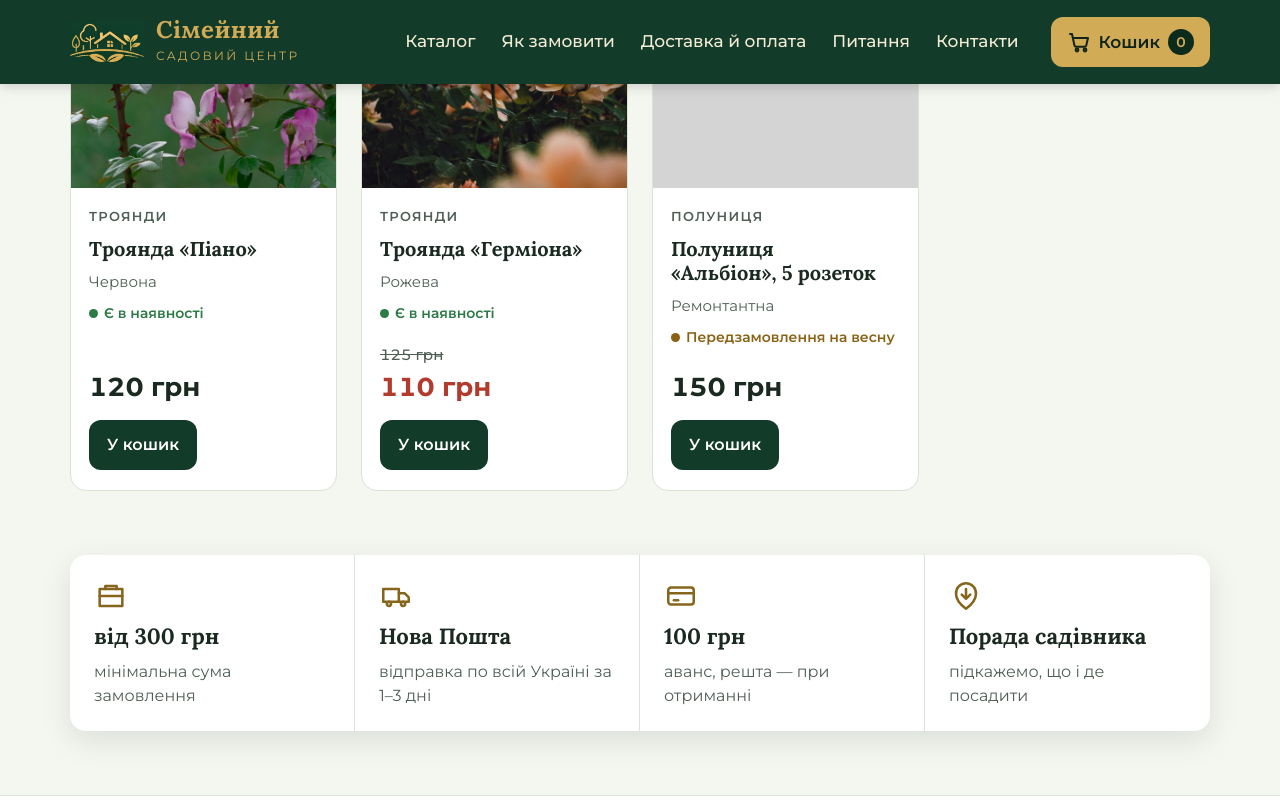
кошик і замовлення › не дає оформити замовлення менше мінімальної суми
The image size is (1280, 800).
(page scrolled)
Expected: the link "Троянда «Піано»" is shown, [89,236,257,260]
Click the button "У кошик" below "120 грн": click(143, 445) [89,420,197,470]
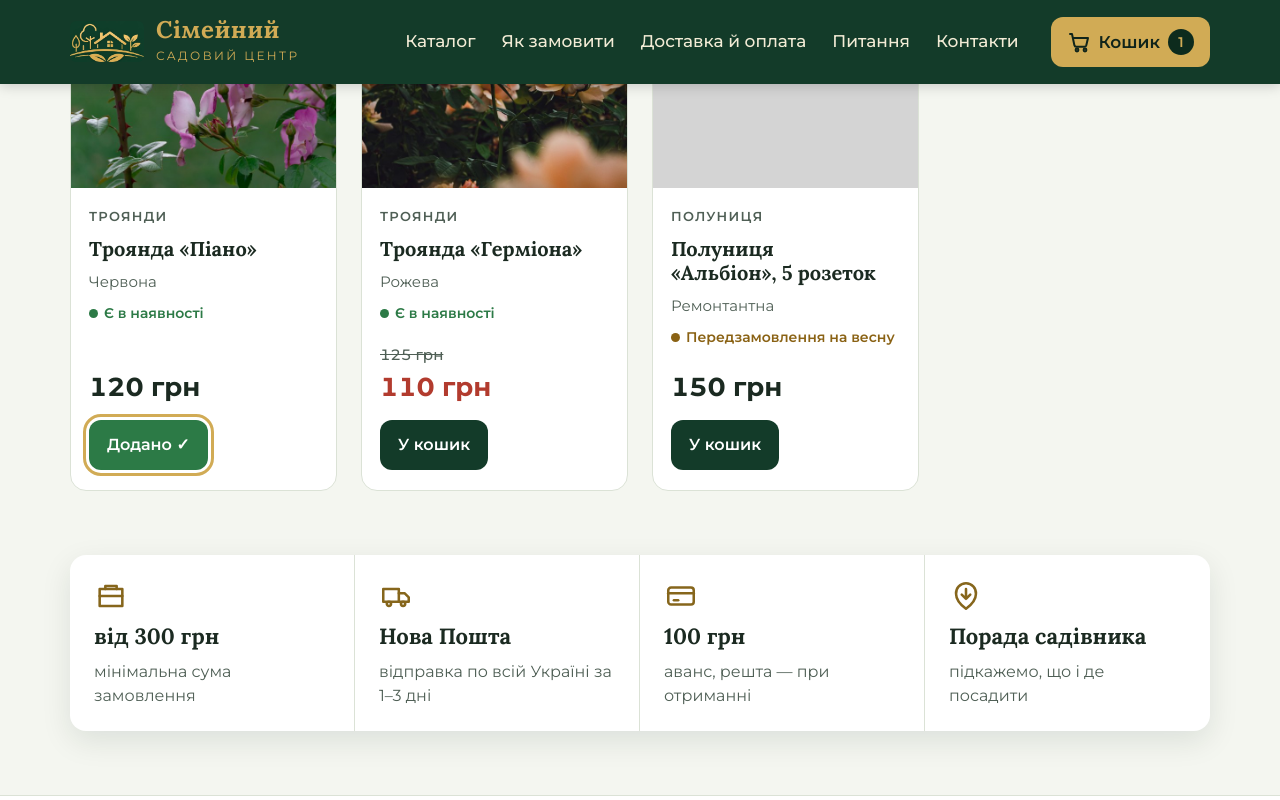
Click the button with aria-label "Відкрити кошик": click(1130, 42) [1051,17,1210,67]
(page scrolled)
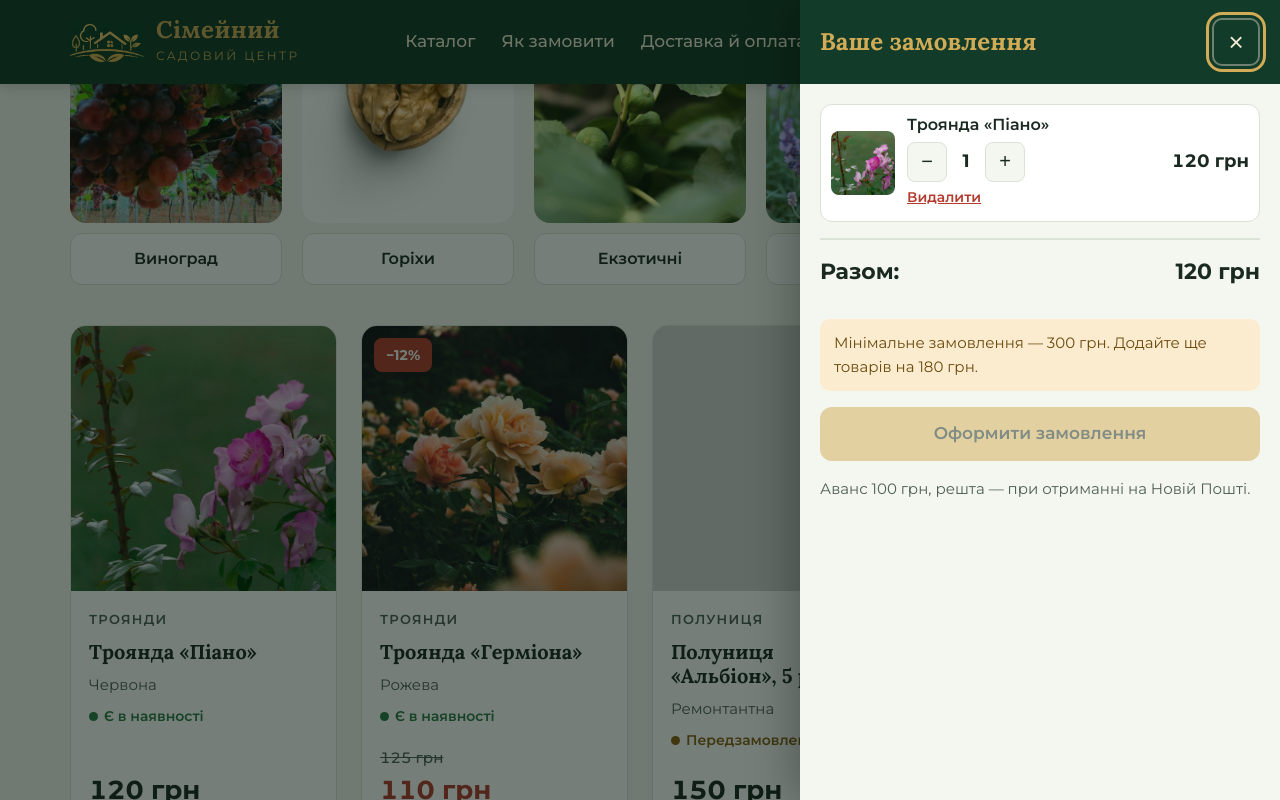
Result: the text "Мінімальне замовлення — 300 грн" is shown at [820,319,1260,391]
Result: the button "Оформити замовлення" is disabled at [820,407,1260,461]
Click the button named "Більше": click(1005, 162) [985,142,1025,182]
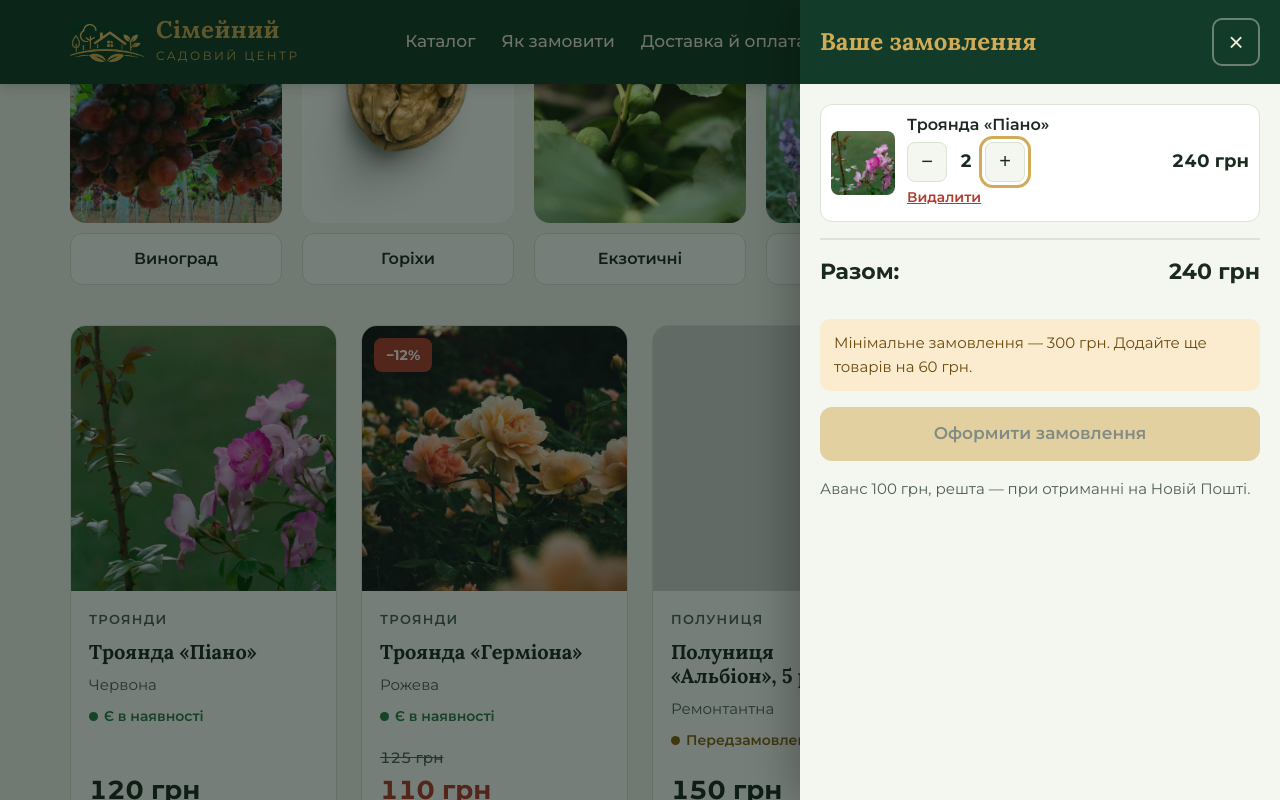
Click the button named "Більше": click(1005, 162) [985,142,1025,182]
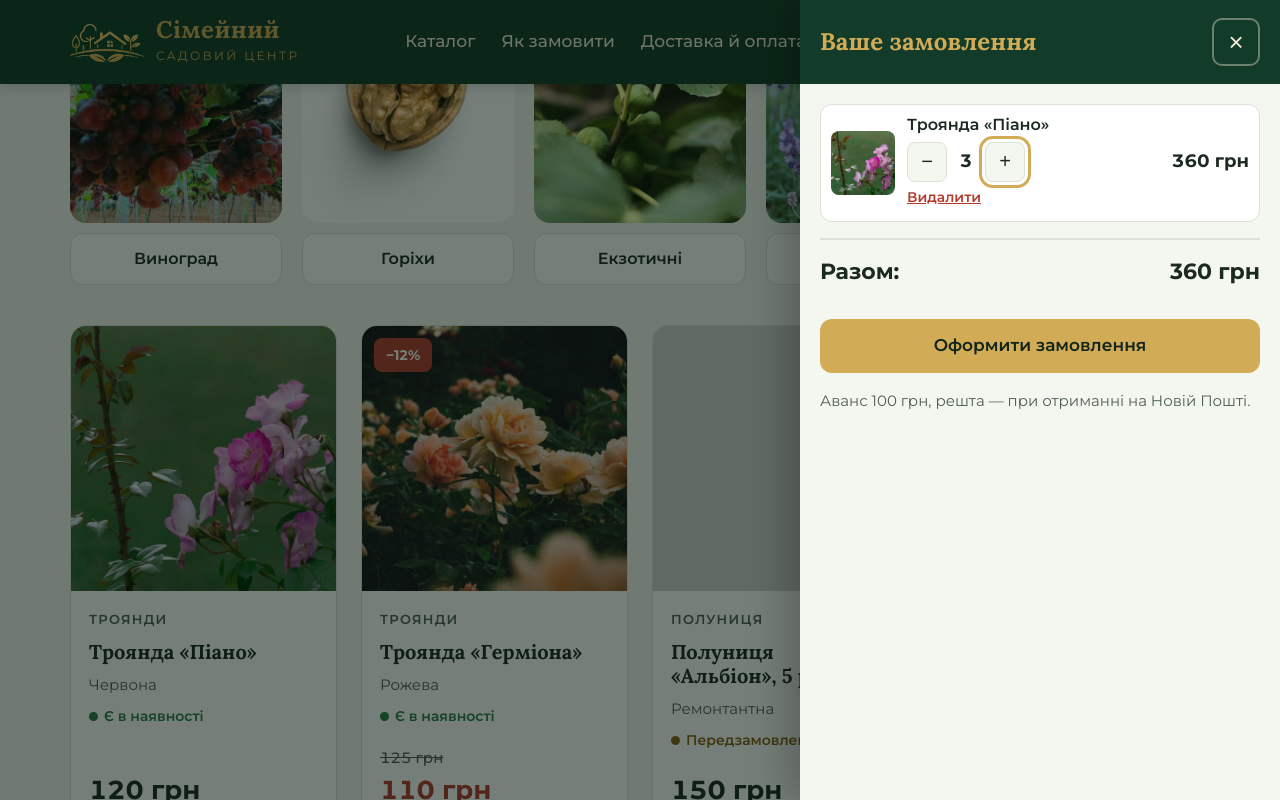
Result: the text "360 грн" in the row of "Разом:" is shown at [1170,258,1260,285]
Result: the button "Оформити замовлення" is enabled at [820,319,1260,373]
Click the button "Видалити": click(944, 197) [907,184,981,210]
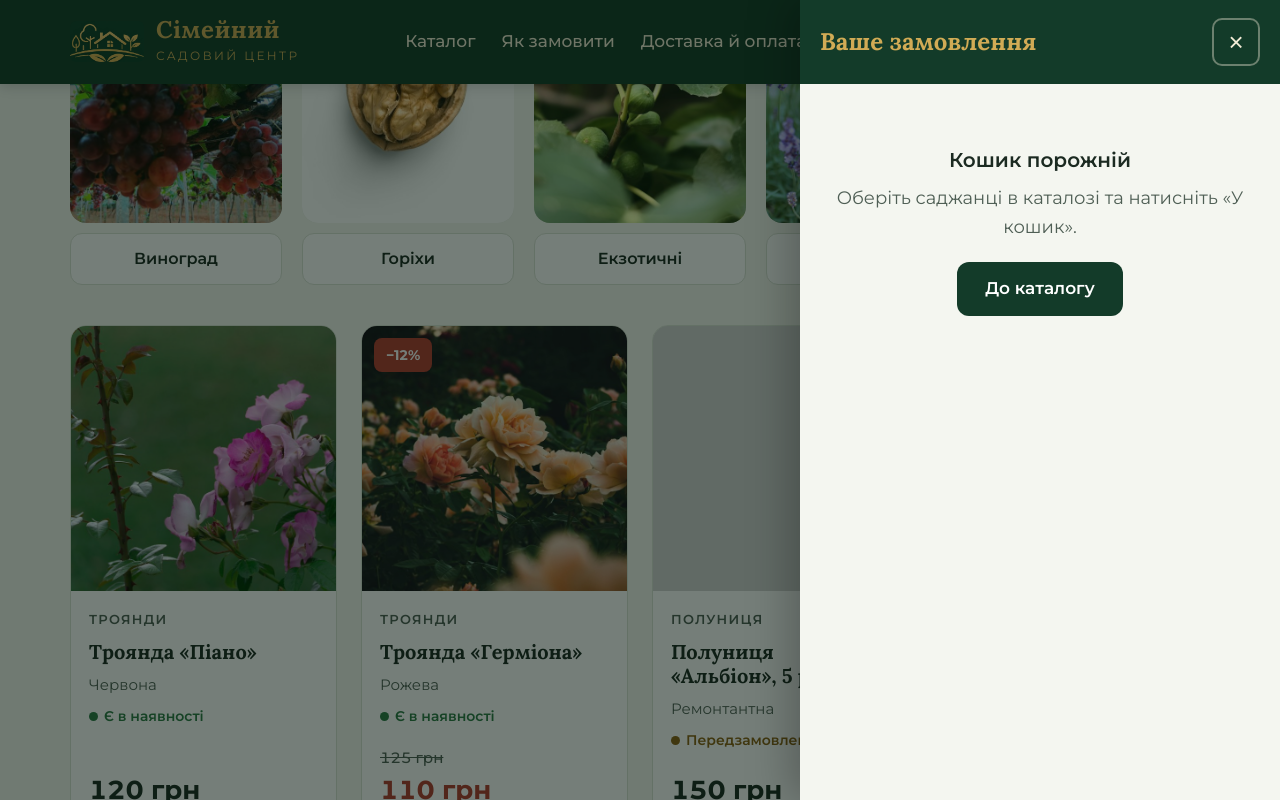
Result: the text "Кошик порожній" is shown at [949,148,1131,172]
